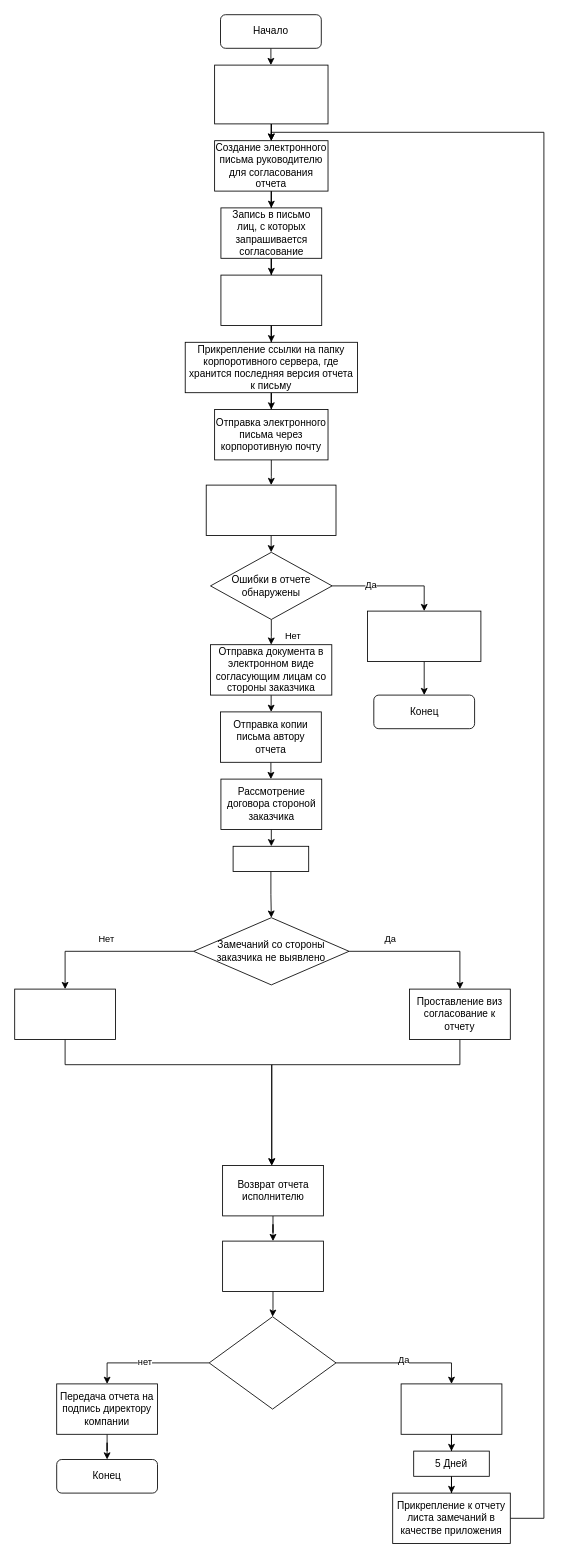
This 565x1558 diagram has some shape labels left out. Each missing label, with the centre of its shape:
"7 Дней" goes at (270,858).
"Возврат отчета автору для исправления" goes at (424,636).
"Замечания в договоре были обнаружены" goes at (272,1362).
"Передача результата согласования отчета Автору" goes at (272,1266).
"Прикрепление замечаний к отчету" goes at (65,1014).
"Прикрепление отчета к письму" goes at (271,300).
"Проверка корректности оформления отчета в соответсвии с требованиями договора" goes at (270,510).
"Работы по составлению отчета о выполнненых работах были завершены" goes at (271,94).
"Создание новой версии отчета с учетом выявленных замечаний" goes at (451,1408).
